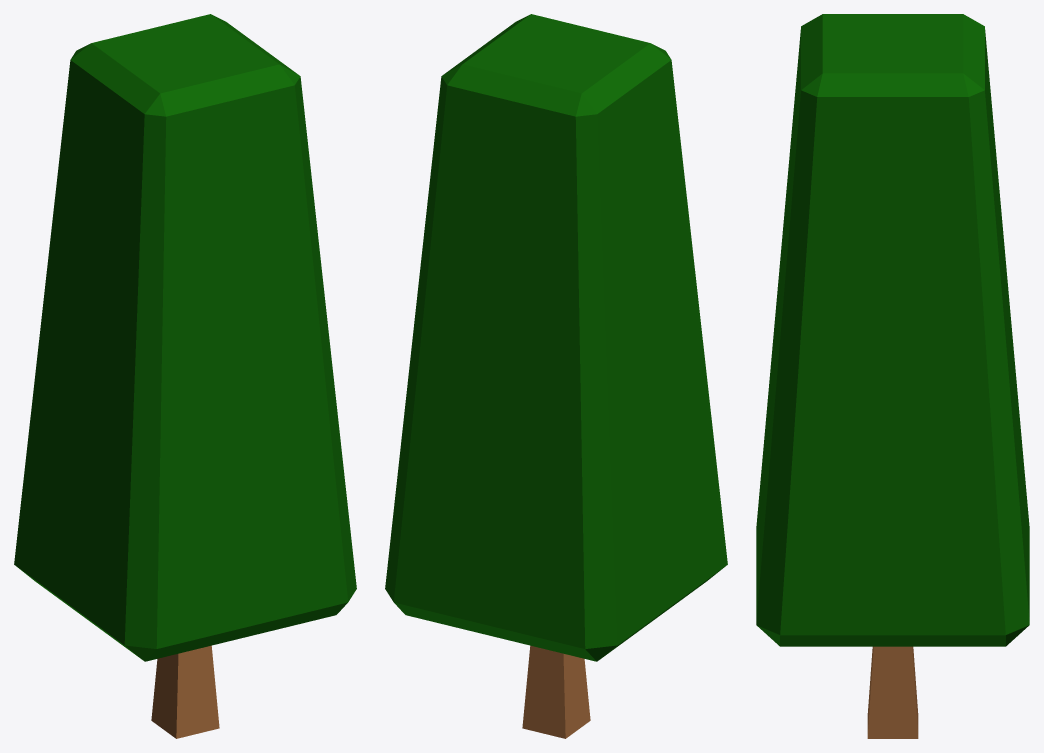
The model's file is variant_4_dark.glb.
3 renders of one model, left to right at view 1: azimuth 30°, elevation 25°; view 2: azimuth 150°, elevation 25°; view 3: azimuth 270°, elevation 25°, orthographic. The views are drawn at different scales.
Parts seen in each view (by area): view 1: Cube.013; view 2: Cube.013; view 3: Cube.013.
Boxes of the visible parts, x1,y1,x2,y2 form: Cube.013: [14, 14, 356, 738]; Cube.013: [385, 14, 727, 738]; Cube.013: [756, 14, 1029, 738].
Bounding box in the file's own units: 0.2228 × 0.615 × 0.2228.
